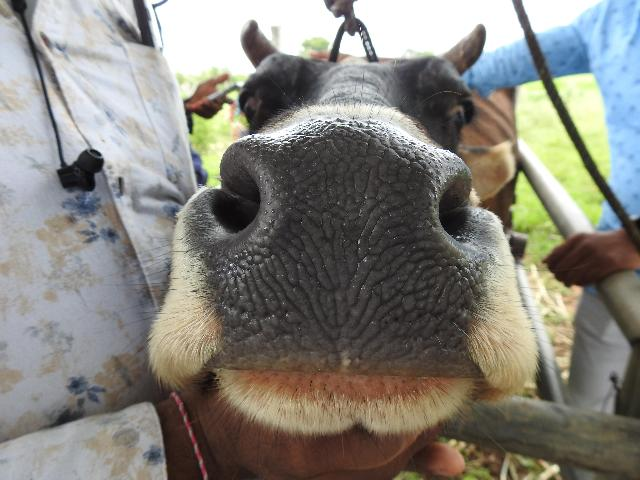Muzzle: (250, 140, 438, 366)
